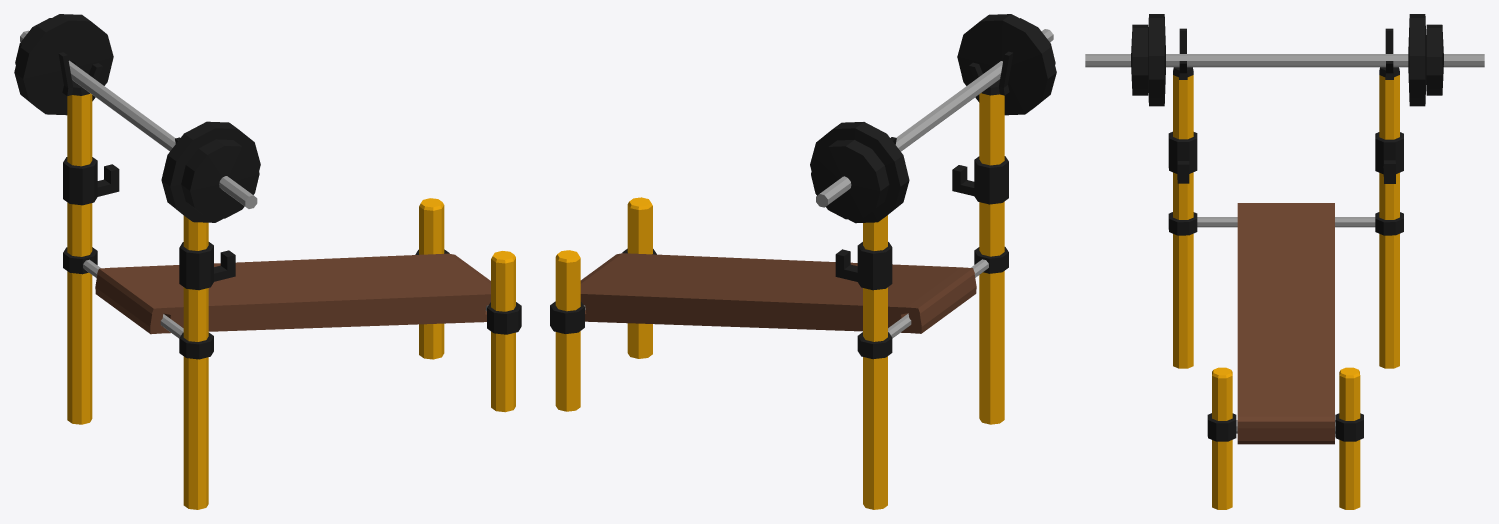
The model's file is Sportsground_02.fbx.
3 views of the same model, side by side, from view 1: azimuth 30°, elevation 25°; view 2: azimuth 150°, elevation 25°; view 3: azimuth 270°, elevation 25° (orthographic). The views are drawn at different scales.
Parts seen in each view (by area): view 1: Sportsground_02; view 2: Sportsground_02; view 3: Sportsground_02.
Boxes of the visible parts, x1=… form: Sportsground_02: x1=14, y1=14, x2=521, y2=509; Sportsground_02: x1=550, y1=14, x2=1056, y2=509; Sportsground_02: x1=1085, y1=14, x2=1484, y2=509.
Size of the model in its own units: 149 by 142 by 149.
